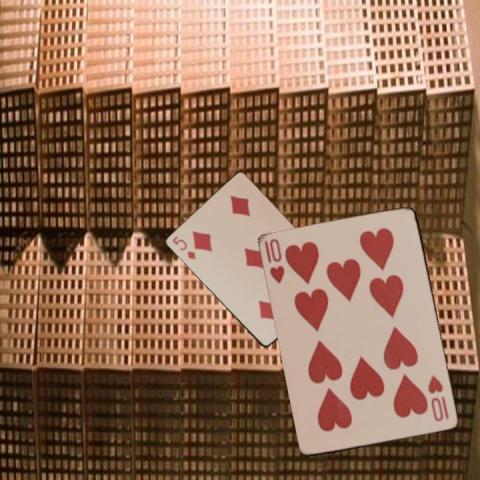10h: (425, 372, 451, 423), (261, 236, 286, 286)
5d: (169, 233, 197, 261)
